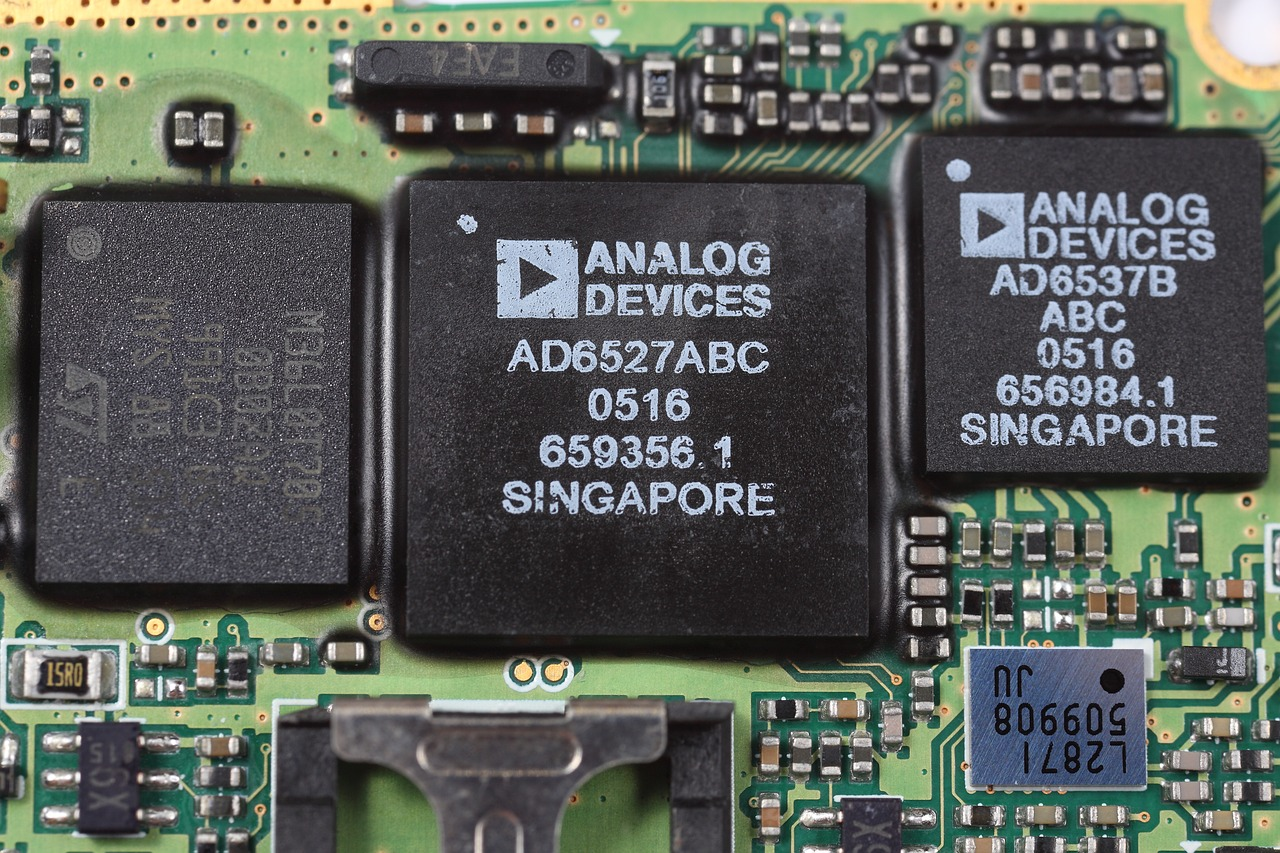kondensator: (1166, 640, 1269, 688), (1140, 59, 1171, 117), (750, 732, 788, 778), (258, 636, 311, 668), (322, 642, 379, 671), (193, 730, 250, 758), (692, 78, 742, 109), (877, 702, 909, 749), (1110, 23, 1163, 51), (1078, 509, 1105, 563), (753, 794, 781, 846), (901, 542, 951, 571), (1152, 606, 1200, 636), (444, 110, 497, 137), (1214, 572, 1259, 603), (1015, 60, 1042, 111), (986, 59, 1013, 108), (1108, 63, 1135, 112), (192, 645, 220, 692), (902, 574, 953, 599), (1080, 808, 1137, 830), (1207, 606, 1259, 630), (1113, 572, 1137, 623), (133, 640, 181, 665), (956, 517, 981, 565), (904, 515, 953, 539), (751, 87, 778, 130), (1164, 778, 1212, 802), (703, 52, 748, 77), (1194, 715, 1239, 740), (1166, 743, 1211, 767), (1023, 803, 1071, 825), (388, 108, 427, 135), (515, 115, 555, 141), (1054, 519, 1075, 566), (1200, 810, 1249, 829), (1079, 58, 1102, 98), (825, 700, 868, 721), (990, 516, 1013, 555), (1091, 577, 1107, 625), (954, 837, 1005, 852)
